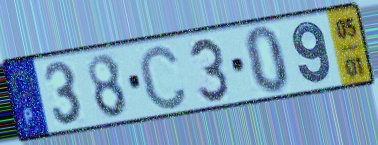0: (241, 25, 293, 97)
3: (186, 34, 232, 105), (43, 58, 87, 128)
8: (86, 52, 129, 120)
9: (290, 18, 335, 88)
C: (136, 41, 190, 112)
